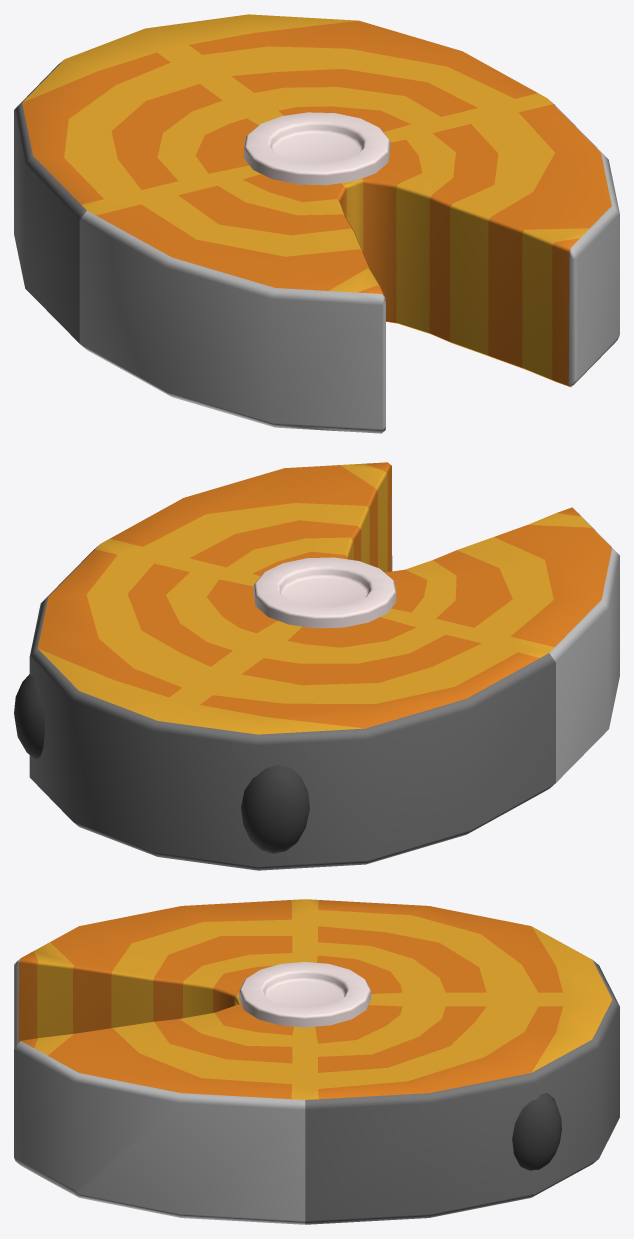
File: Salmon_Steak.fbx
3 views of the same model, one above another, from view 1: azimuth 30°, elevation 25°; view 2: azimuth 150°, elevation 25°; view 3: azimuth 270°, elevation 25° (orthographic). The views are drawn at different scales.
Visible parts, largest first — view 1: Salmon_Steak; view 2: Salmon_Steak; view 3: Salmon_Steak.
Boxes of the visible parts, x1,y1,x2,y2 form: Salmon_Steak: (14,14,619,433); Salmon_Steak: (14,462,619,870); Salmon_Steak: (14,899,619,1224).
Bounding box in the file's own units: 20.5 × 6.79 × 25.36.
